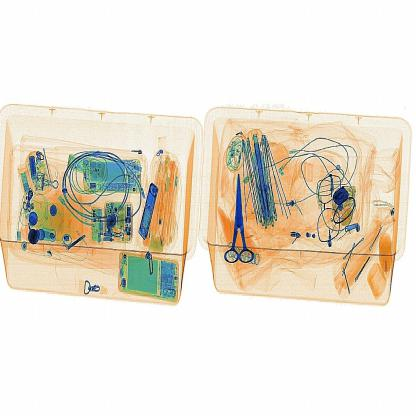gun: (216, 162, 264, 282)
